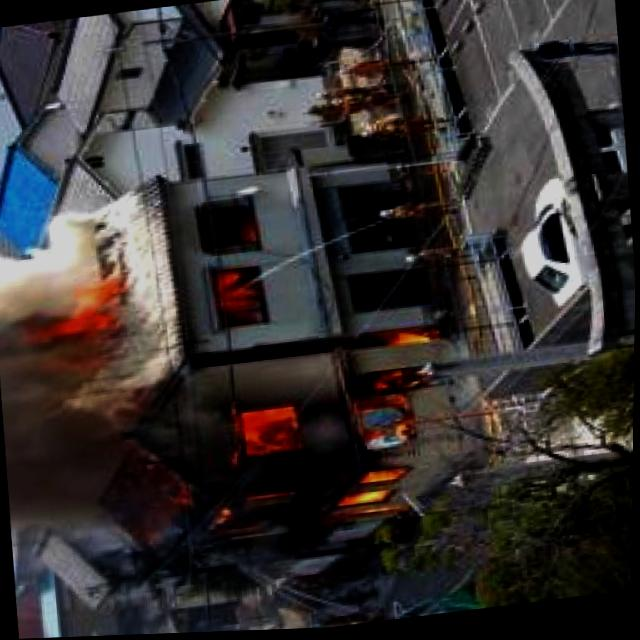Fire: (15, 257, 130, 361), (237, 400, 306, 459), (203, 268, 267, 330), (370, 321, 449, 355), (367, 365, 435, 402), (332, 486, 393, 511), (362, 468, 408, 489)
Smoke: (0, 191, 194, 539)
